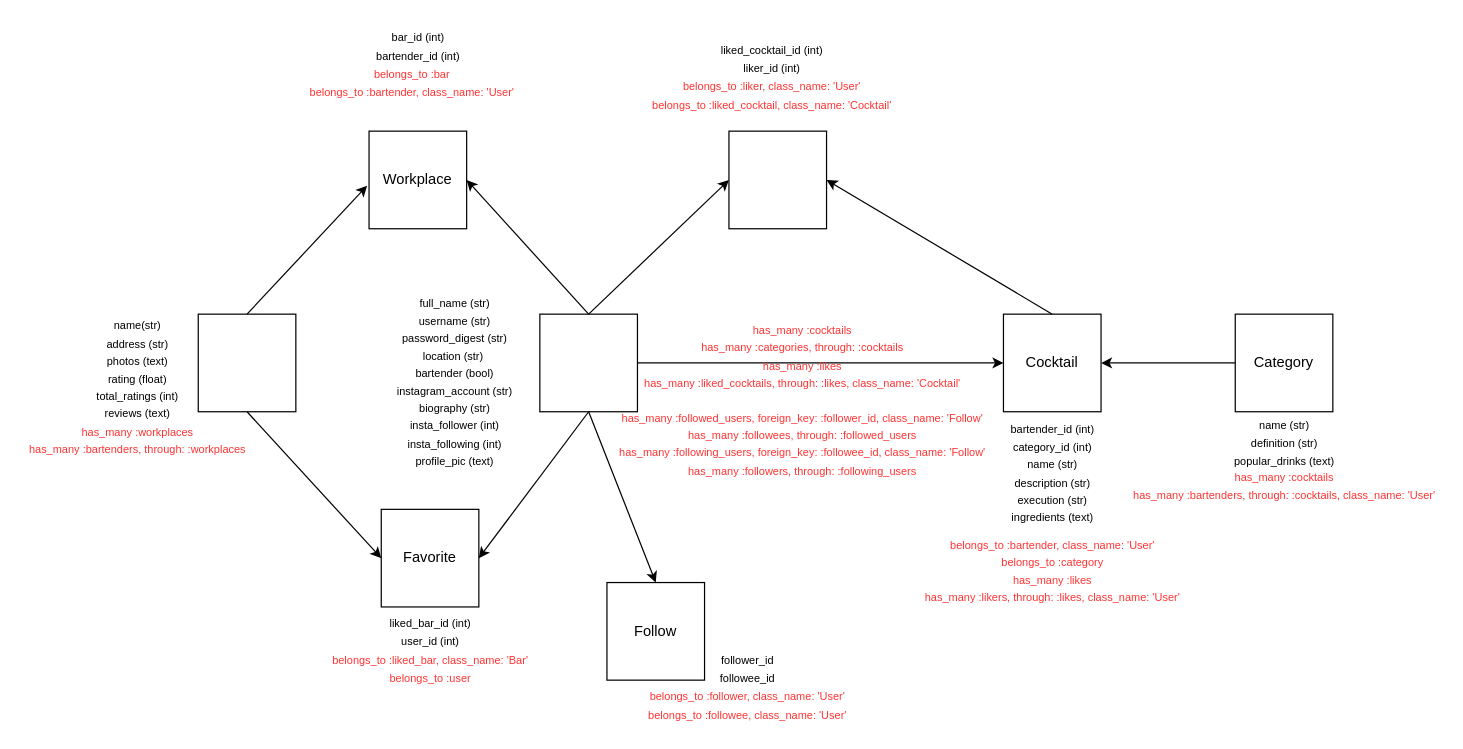
This 1463x749 diagram has some shape labels left out. Here are the shapes that lost their labels. From the top down, the box of each, then its label:
(728, 130, 827, 229): Like
(197, 313, 296, 412): Bar
(539, 313, 637, 412): User
